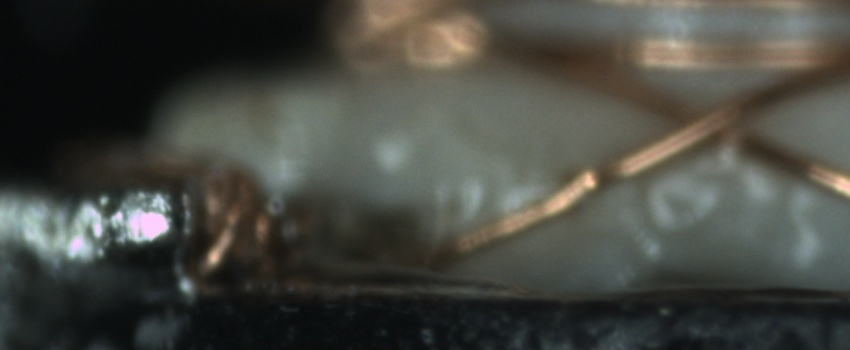CL: (644, 75, 774, 174)
TE: (139, 149, 283, 277)
